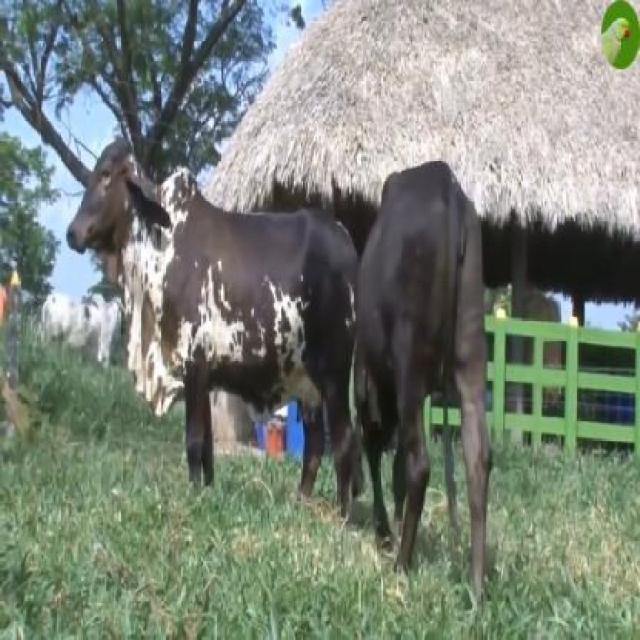Cow: (66, 138, 359, 532)
